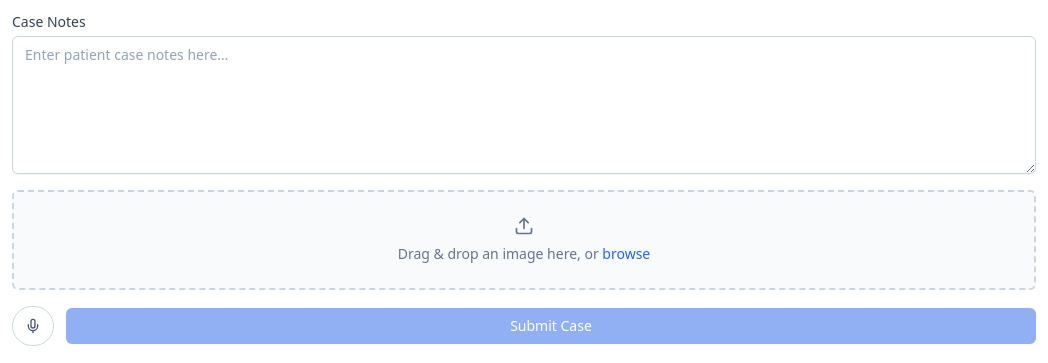
Test: UploadWidget › enables submit button when caseText has content
Step 1. Type "Patient has chest pain" into the text box labelled "Case Notes" → x=524, y=105, box [12, 36, 1036, 174]
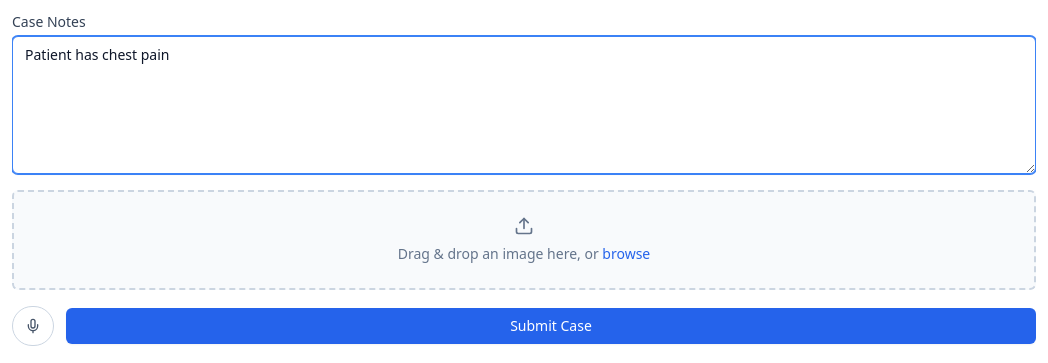
Result: the button "Submit Case" is enabled at [66, 308, 1036, 344]
